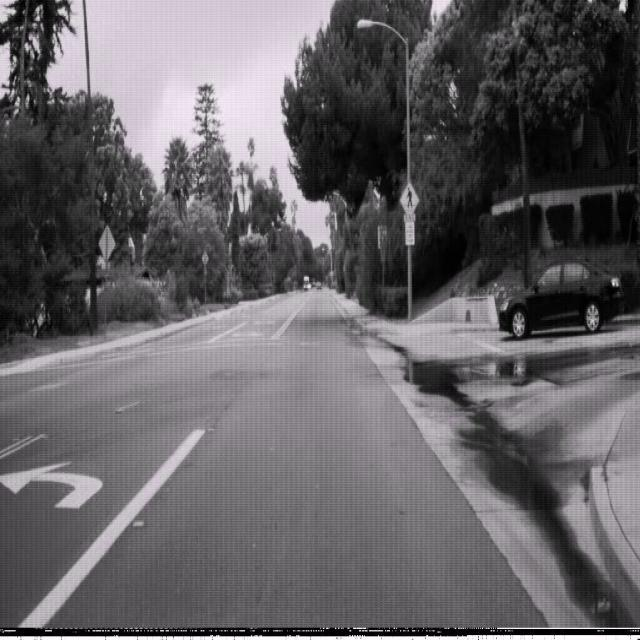pedestrianCrossing: (399, 178, 419, 218)
